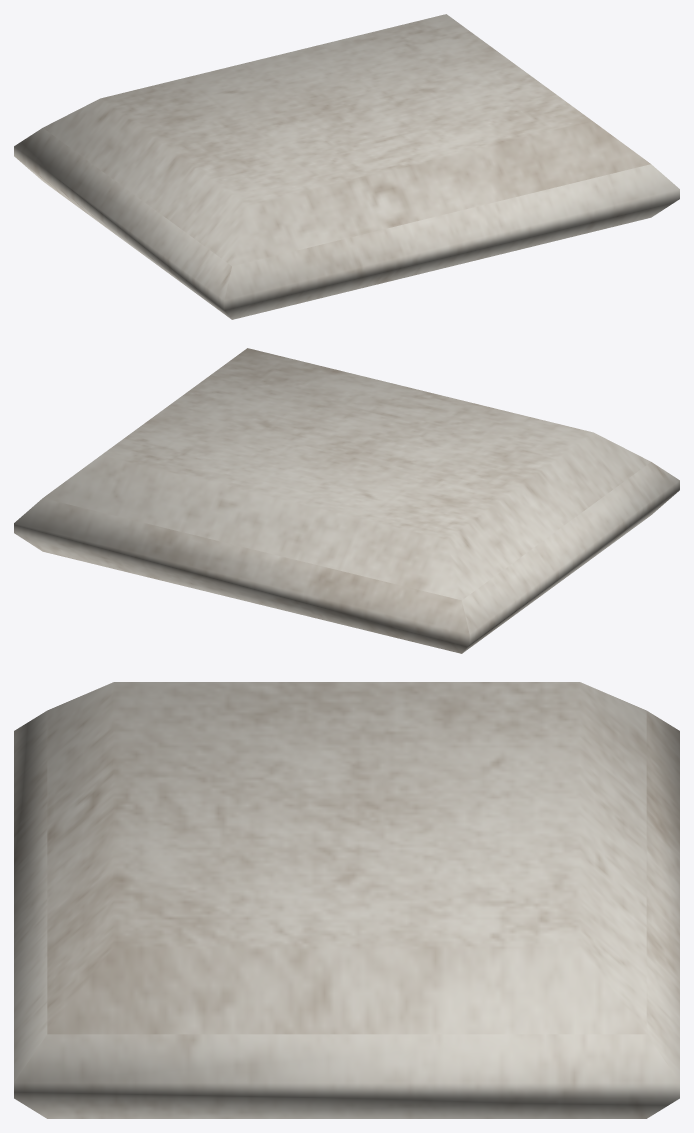
Rendered from pillow.fbx.
The picture shows the model from 3 angles, top to bottom: view 1: azimuth 30°, elevation 25°; view 2: azimuth 150°, elevation 25°; view 3: azimuth 270°, elevation 25°; orthographic projection. The views are drawn at different scales.
Parts seen in each view (by area): view 1: pillow.001; view 2: pillow.001; view 3: pillow.001.
Part boxes in pixels (<box>): pillow.001: <box>14,14,679,319</box>; pillow.001: <box>14,348,679,653</box>; pillow.001: <box>14,682,679,1118</box>.
Size of the model in its own units: 0.5542 by 0.1108 by 0.4434.
Materials: 1 (1 with a texture image).
